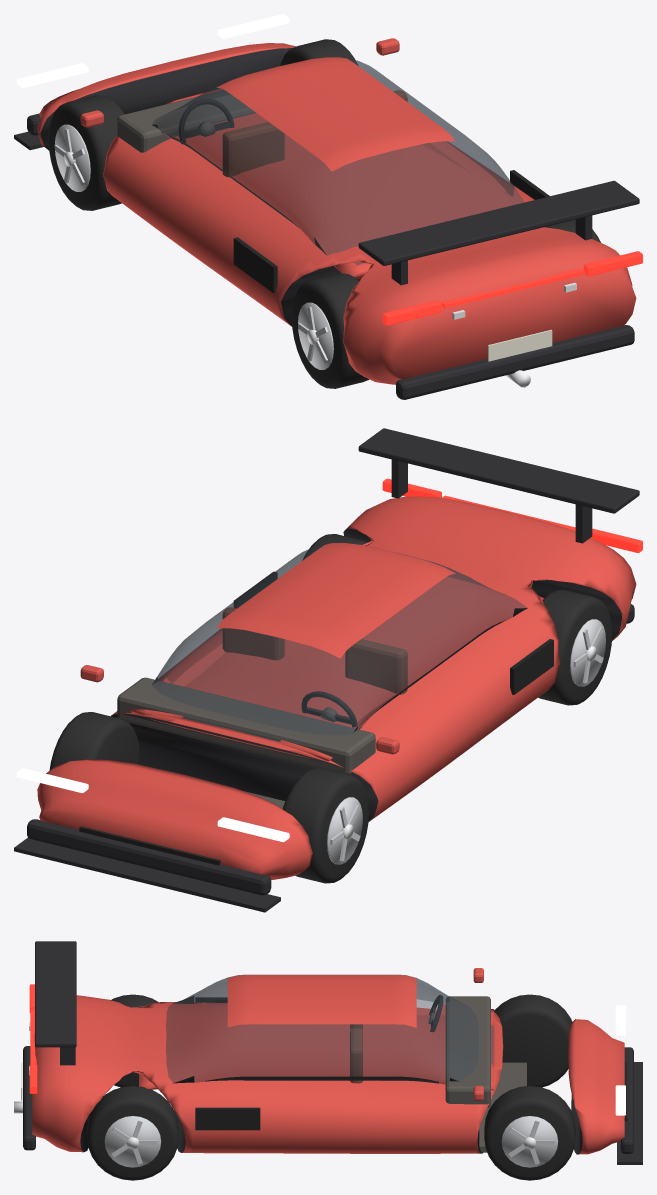
Rendered from super.glb.
3 views of the same model, one above another, from view 1: azimuth 30°, elevation 25°; view 2: azimuth 150°, elevation 25°; view 3: azimuth 270°, elevation 25° (orthographic). The views are drawn at different scales.
Visible parts, largest first — view 1: Body.005, Glass.005, Interior.005, Wheel_FL.005, Wheel_RL.005, Lights_Tail.005, Lights_Head.005, Wheel_FR.005, SteeringWheel.005; view 2: Body.005, Glass.005, Interior.005, Wheel_FL.005, Wheel_RL.005, Wheel_FR.005, Lights_Head.005, Lights_Tail.005, SteeringWheel.005; view 3: Body.005, Glass.005, Wheel_FR.005, Wheel_RR.005, Interior.005, Wheel_FL.005, Lights_Tail.005, Lights_Head.005, Wheel_RL.005.
Part boxes in pixels (left/top/right/bottom): Body.005: left=14, top=38, right=639, bottom=399; Glass.005: left=152, top=59, right=524, bottom=265; Interior.005: left=117, top=90, right=407, bottom=177; Wheel_FL.005: left=48, top=95, right=124, bottom=210; Wheel_RL.005: left=291, top=273, right=368, bottom=388; Lights_Tail.005: left=382, top=251, right=642, bottom=325; Lights_Head.005: left=16, top=14, right=289, bottom=87; Wheel_FR.005: left=280, top=39, right=357, bottom=65; SteeringWheel.005: left=178, top=98, right=234, bottom=144; Body.005: left=14, top=428, right=639, bottom=912; Glass.005: left=152, top=543, right=527, bottom=741; Interior.005: left=117, top=607, right=407, bottom=808; Wheel_FL.005: left=283, top=768, right=369, bottom=883; Wheel_RL.005: left=538, top=590, right=612, bottom=705; Wheel_FR.005: left=49, top=712, right=139, bottom=770; Lights_Head.005: left=16, top=768, right=289, bottom=842; Lights_Tail.005: left=382, top=478, right=642, bottom=552; SteeringWheel.005: left=301, top=691, right=357, bottom=727; Body.005: left=14, top=941, right=642, bottom=1164; Glass.005: left=166, top=974, right=494, bottom=1083; Wheel_FR.005: left=484, top=1086, right=575, bottom=1180; Wheel_RR.005: left=87, top=1086, right=178, bottom=1180; Interior.005: left=350, top=996, right=526, bottom=1152; Wheel_FL.005: left=494, top=994, right=572, bottom=1087; Lights_Tail.005: left=29, top=984, right=37, bottom=1093; Lights_Head.005: left=615, top=1005, right=625, bottom=1115; Wheel_RL.005: left=111, top=994, right=158, bottom=1087.
Size of the model in its own units: 2.28 by 1.16 by 4.83.
